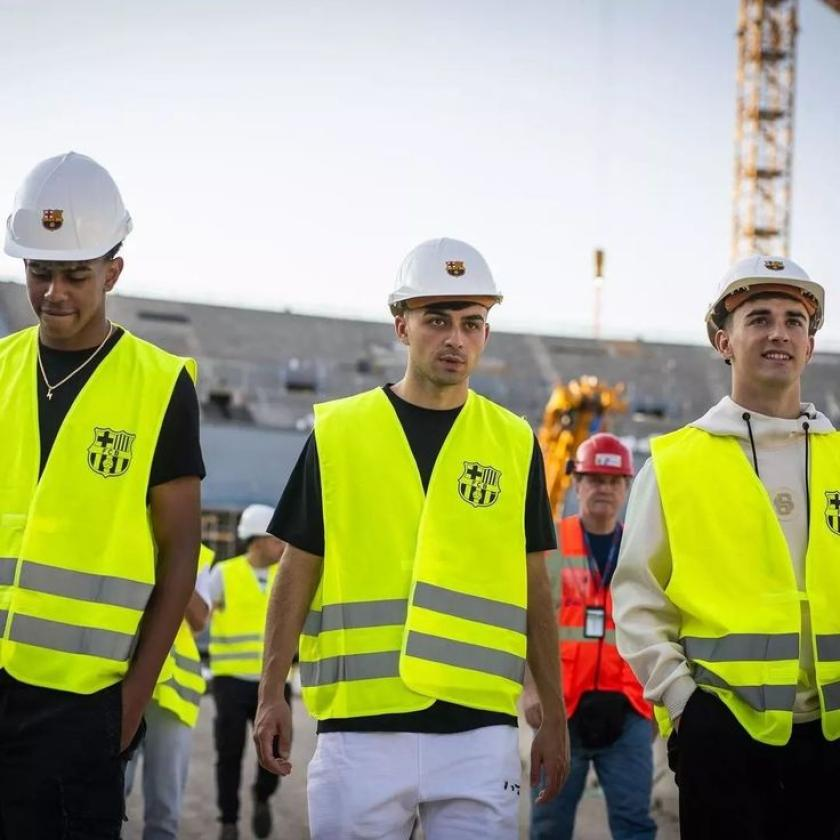Con_casco: (0, 144, 135, 352), (384, 234, 507, 405), (700, 259, 831, 412), (564, 431, 647, 538)
